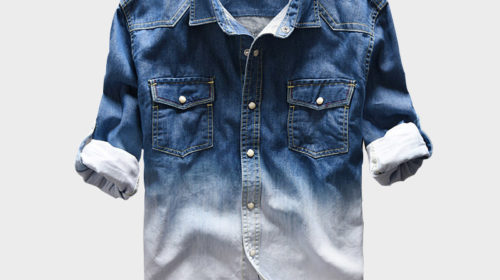Shirt: (76, 1, 431, 280)
